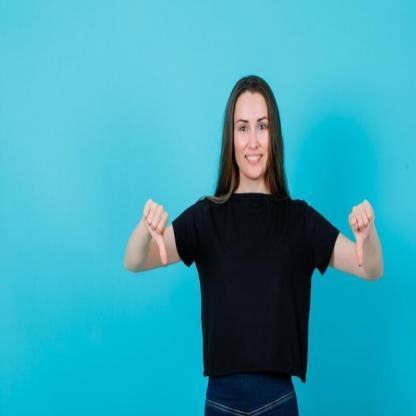thumb_down: (140, 195, 172, 268), (346, 195, 377, 268)
